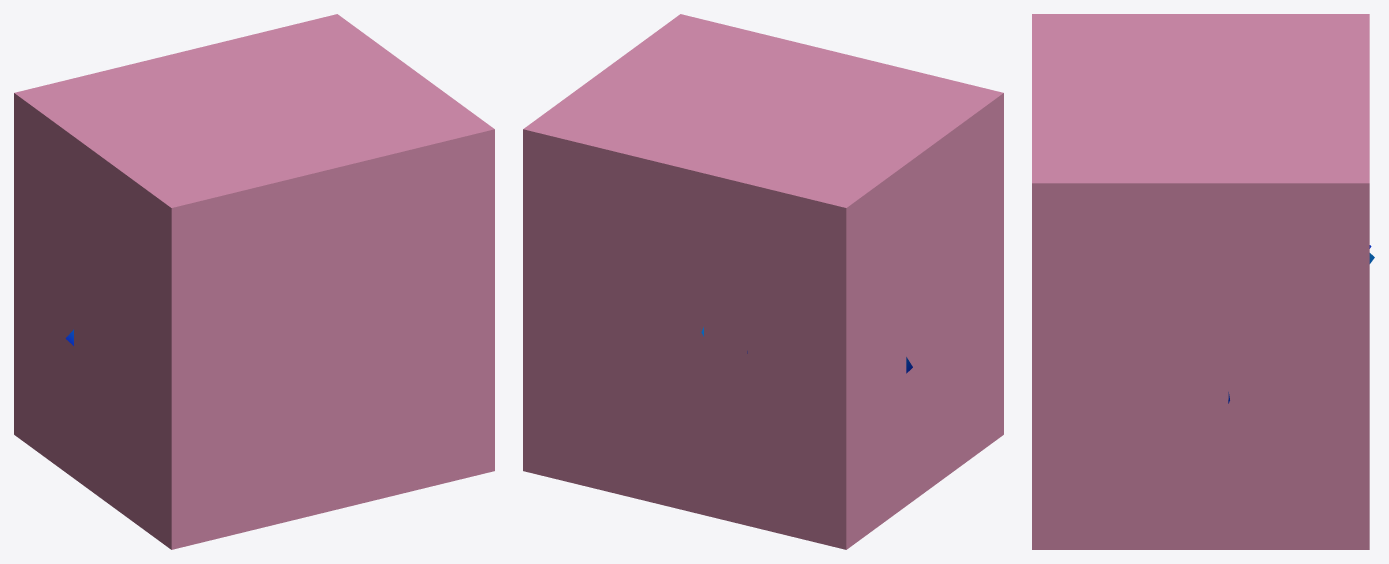
Rendered from tree_beech_blocker_a.dae.
The picture shows the model from 3 angles, left to right: view 1: azimuth 30°, elevation 25°; view 2: azimuth 150°, elevation 25°; view 3: azimuth 270°, elevation 25°; orthographic projection. The views are drawn at different scales.
Visible parts, largest first — view 1: Untitled; view 2: Untitled; view 3: Untitled.
Part boxes in pixels (box(x1,y1,x2,y2)): Untitled: box(14, 14, 494, 549); Untitled: box(523, 14, 1003, 549); Untitled: box(1032, 14, 1369, 549).
Size of the model in its own units: 9.34 by 7.69 by 9.24.
